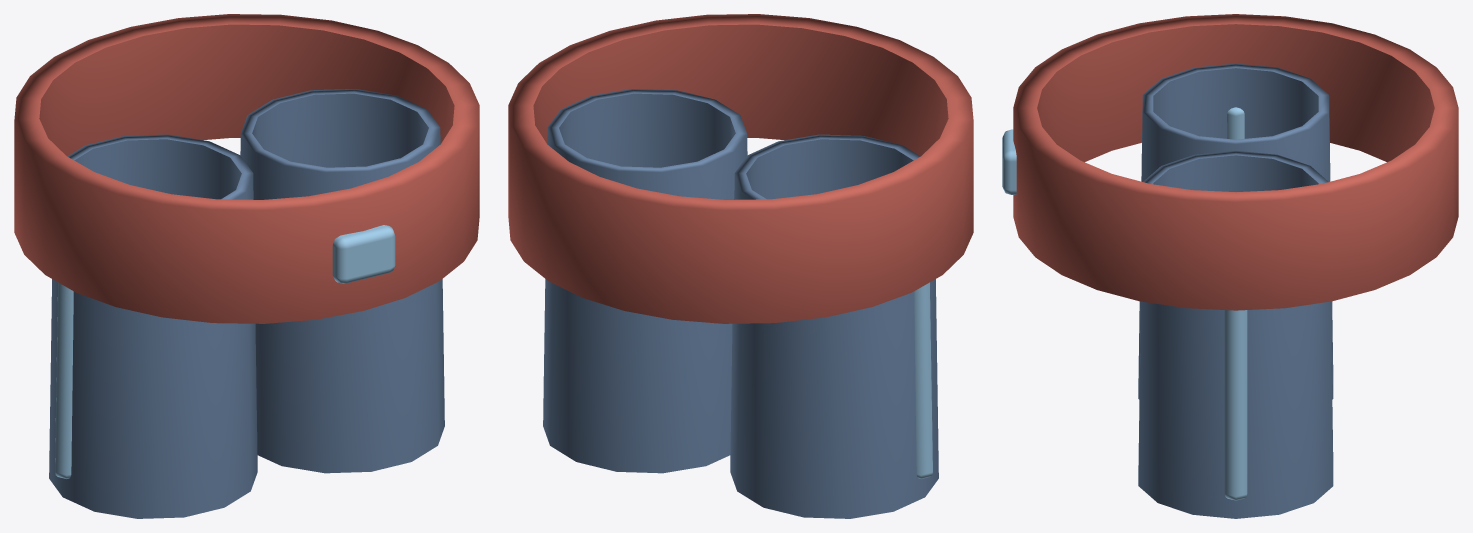
File: embellished_denim_pants.glb
3 renders of one model, left to right at view 1: azimuth 30°, elevation 25°; view 2: azimuth 150°, elevation 25°; view 3: azimuth 270°, elevation 25°, orthographic. The views are drawn at different scales.
Parts seen in each view (by area): view 1: embellished_denim_pants_Body, embellished_denim_pants_LegL, embellished_denim_pants_LegR; view 2: embellished_denim_pants_Body, embellished_denim_pants_LegL, embellished_denim_pants_LegR; view 3: embellished_denim_pants_Body, embellished_denim_pants_LegR, embellished_denim_pants_LegL.
Part boxes in pixels (x1=…): embellished_denim_pants_Body: x1=14, y1=14, x2=479, y2=323; embellished_denim_pants_LegL: x1=49, y1=134, x2=257, y2=518; embellished_denim_pants_LegR: x1=240, y1=89, x2=444, y2=473; embellished_denim_pants_Body: x1=508, y1=14, x2=973, y2=323; embellished_denim_pants_LegL: x1=730, y1=134, x2=938, y2=518; embellished_denim_pants_LegR: x1=543, y1=89, x2=747, y2=473; embellished_denim_pants_Body: x1=1002, y1=14, x2=1458, y2=310; embellished_denim_pants_LegR: x1=1138, y1=150, x2=1333, y2=518; embellished_denim_pants_LegL: x1=1138, y1=63, x2=1333, y2=399.
Size of the model in its own units: 0.41 by 0.33 by 0.42.
